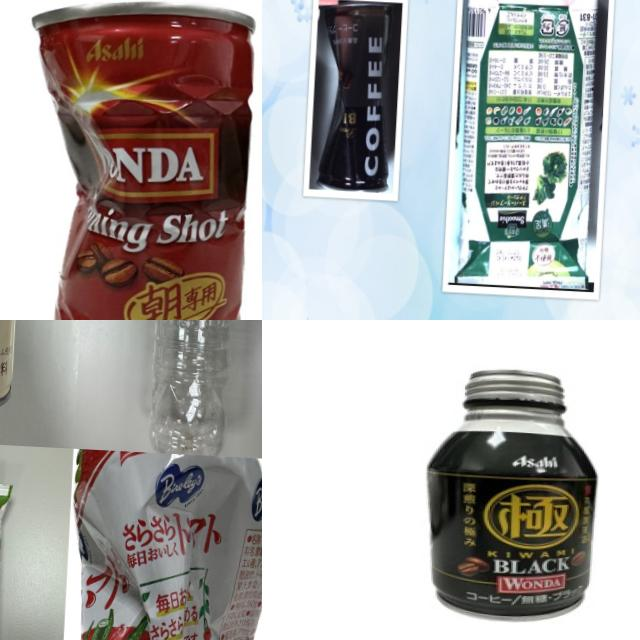Aluminium Foil: (449, 0, 605, 293)
Can: (10, 0, 255, 320), (412, 354, 607, 626), (61, 450, 262, 640), (307, 0, 405, 191)
Transparent Plastic Bottle: (141, 320, 246, 456)
